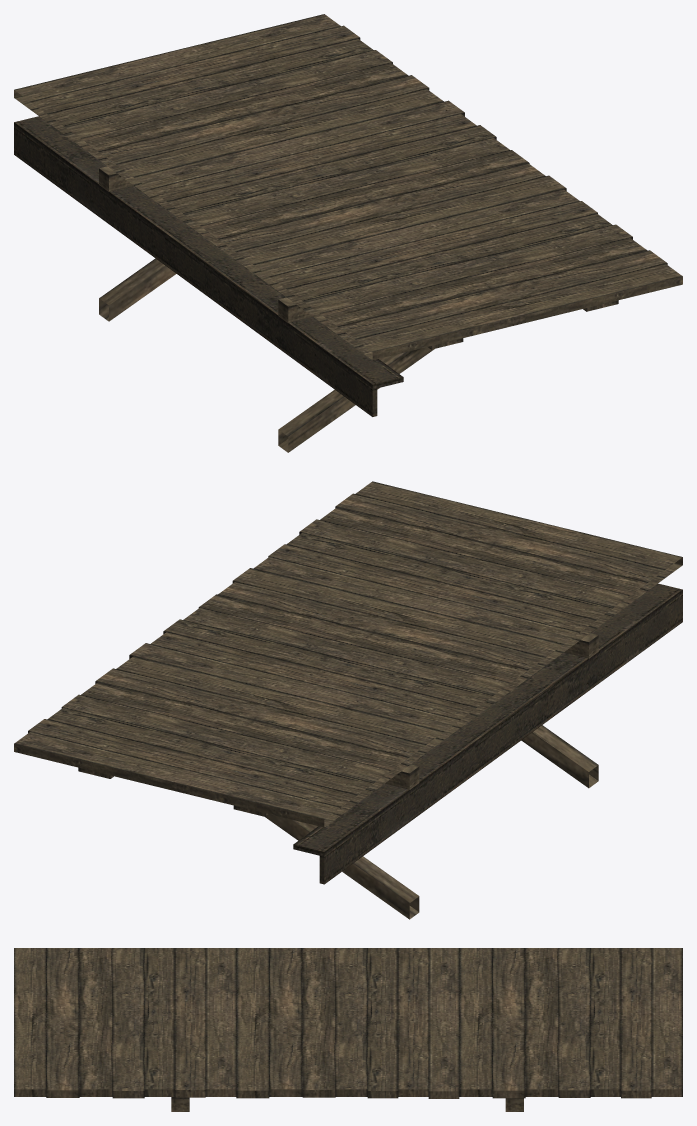
File: platform_ax_1.dae
The picture shows the model from 3 angles, top to bottom: view 1: azimuth 30°, elevation 25°; view 2: azimuth 150°, elevation 25°; view 3: azimuth 270°, elevation 25°; orthographic projection. The views are drawn at different scales.
Visible parts, largest first — view 1: platform_ax_1; view 2: platform_ax_1; view 3: platform_ax_1.
Part boxes in pixels (<box>): platform_ax_1: <box>14,14,682,452</box>; platform_ax_1: <box>14,481,682,919</box>; platform_ax_1: <box>14,948,682,1111</box>.
Bounding box in the file's own units: 2.03 × 4 × 1.
2 materials, 2 textured.
